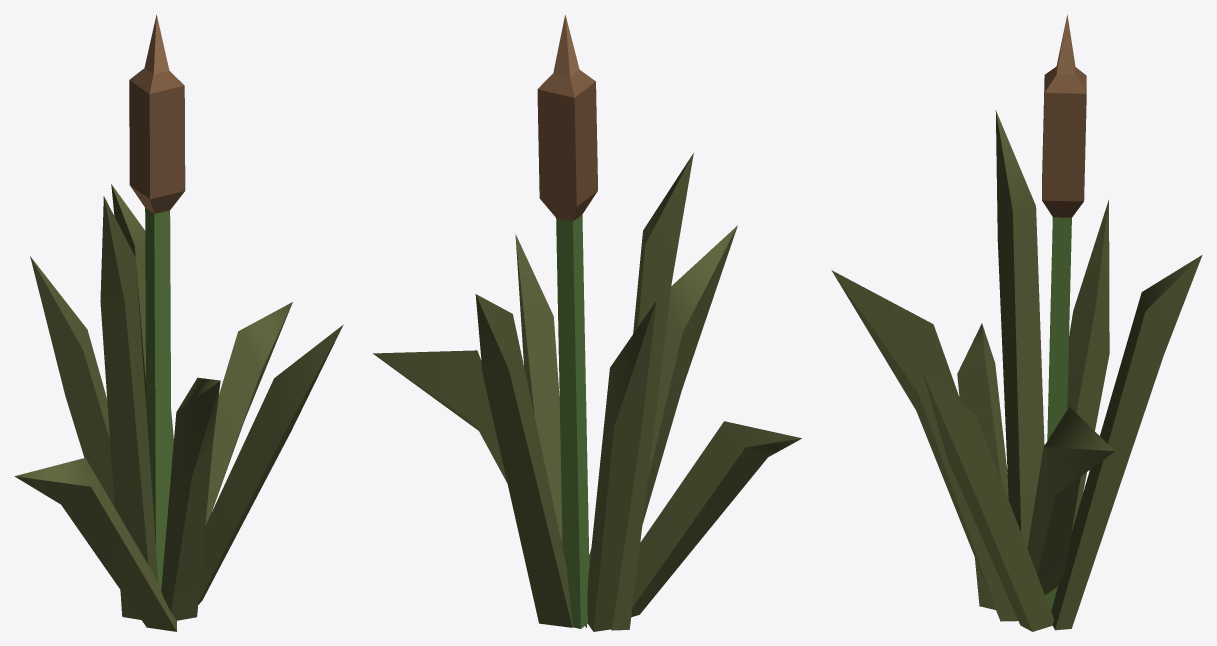
Rendered from reeds.glb.
The picture shows the model from 3 angles, left to right: view 1: azimuth 30°, elevation 25°; view 2: azimuth 150°, elevation 25°; view 3: azimuth 270°, elevation 25°; orthographic projection. The views are drawn at different scales.
Visible parts, largest first — view 1: SM_Env_Reeds_01; view 2: SM_Env_Reeds_01; view 3: SM_Env_Reeds_01.
Part boxes in pixels (bbox=[...]): SM_Env_Reeds_01: bbox=[14, 14, 343, 631]; SM_Env_Reeds_01: bbox=[373, 15, 801, 631]; SM_Env_Reeds_01: bbox=[831, 15, 1202, 631].
Bounding box in the file's own units: 83.19 × 135 × 75.16.
Materials: 1 (1 with a texture image).
